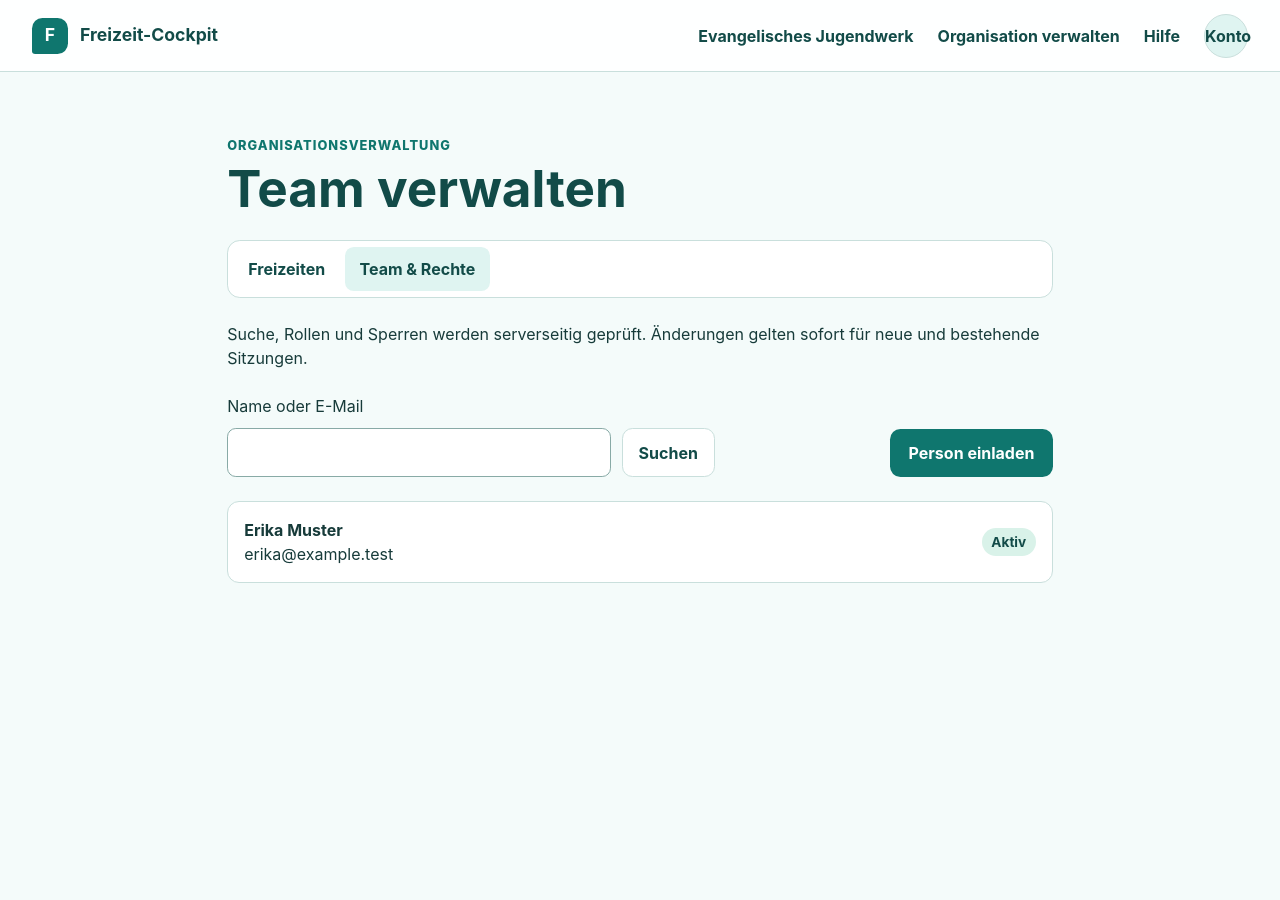
Test: user administration › keeps the opened user visible when a stale version is rejected
Click the button with aria-label "Erika Muster auswählen" at point(293, 530), box [244,518,1036,566]
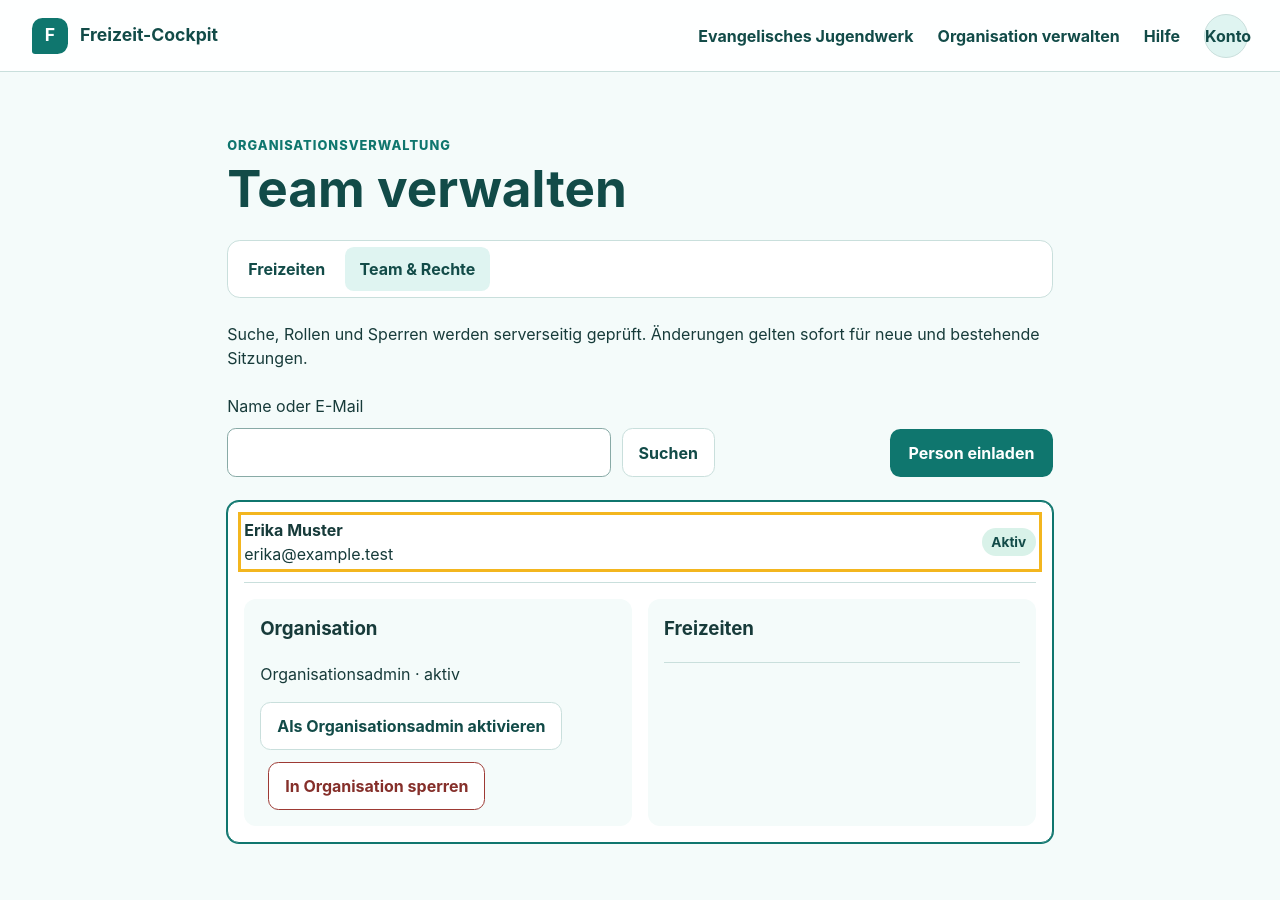
Click the button "In Organisation sperren" at point(377, 786), box [268,762,485,810]
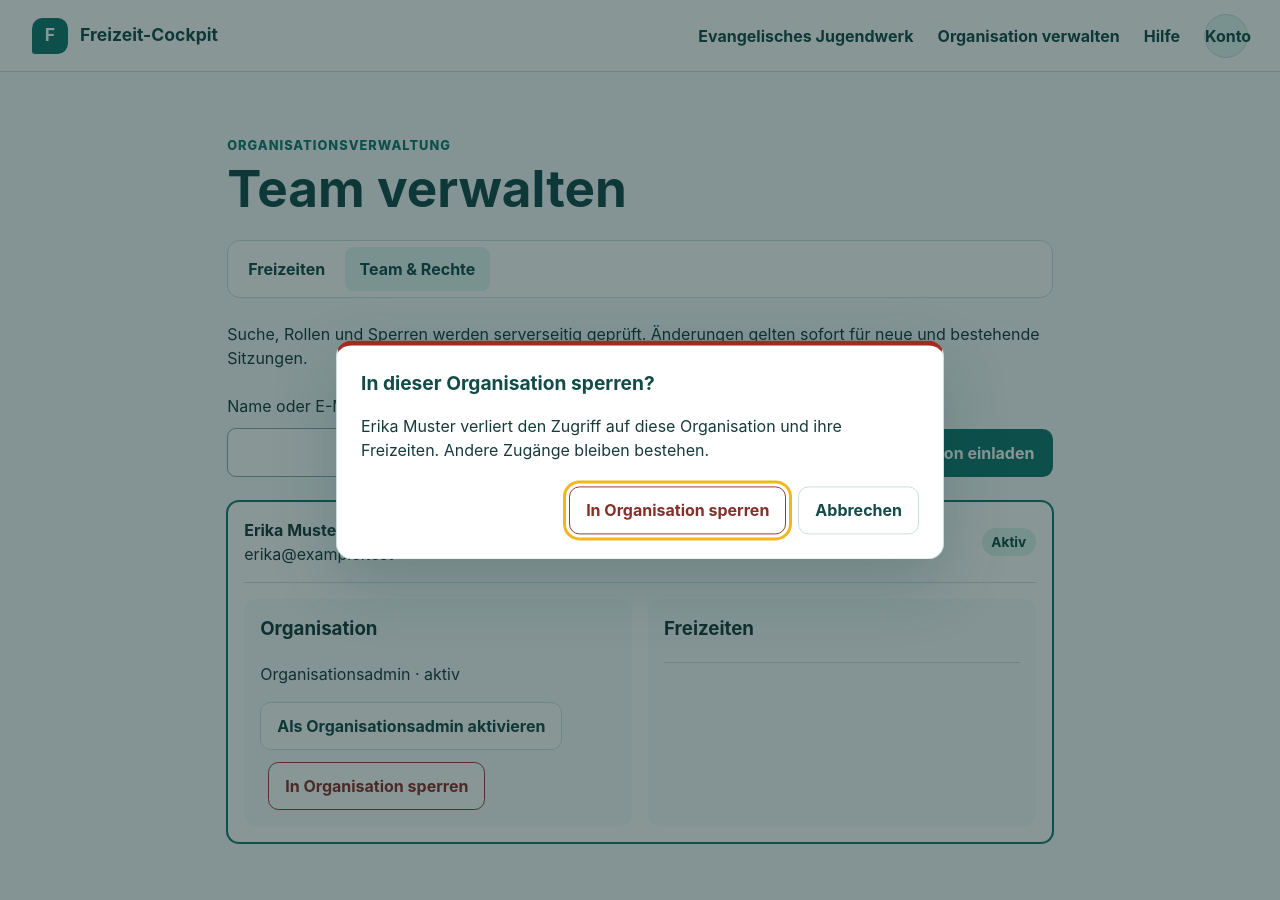
Click the button "In Organisation sperren" at point(678, 510), box [569,486,786,535]
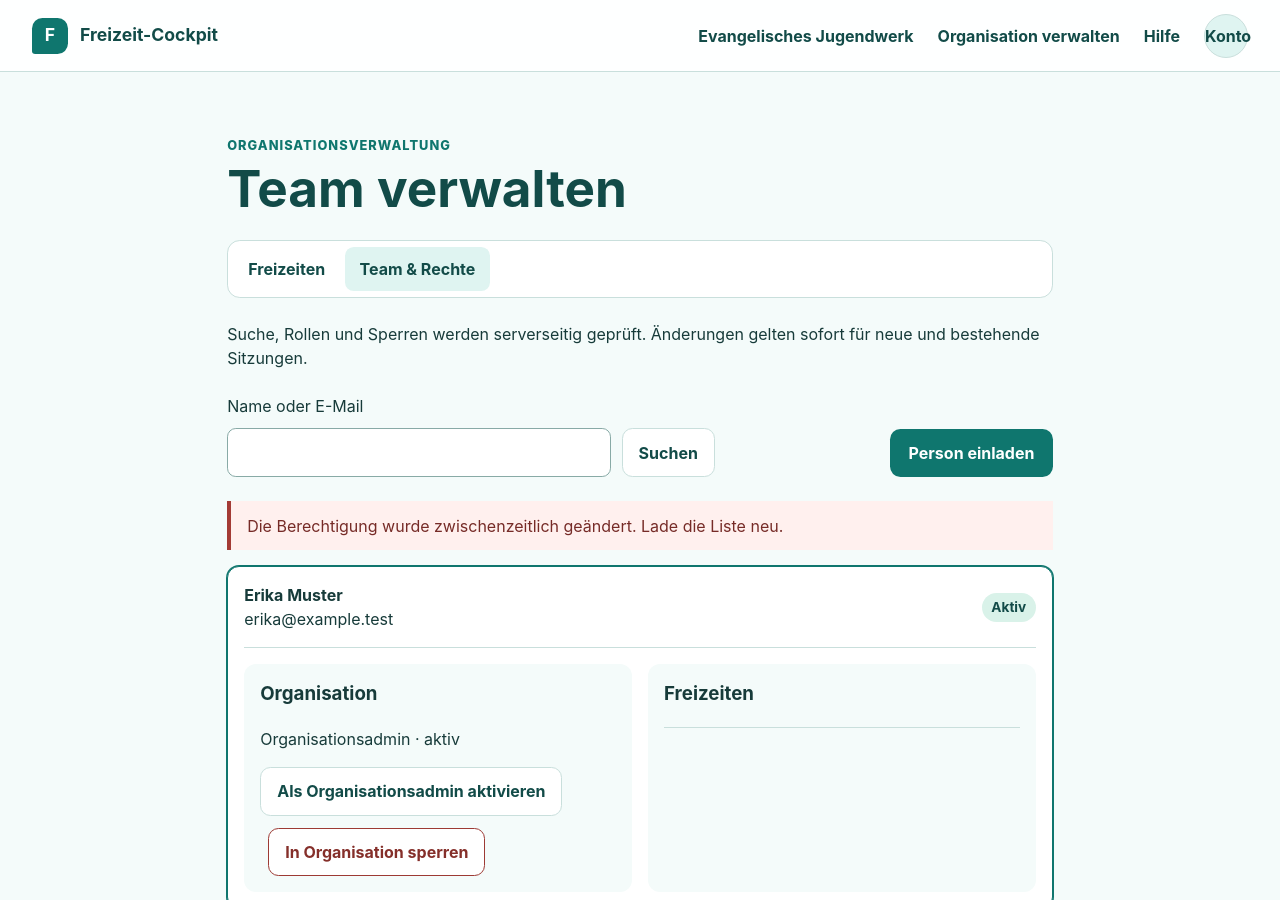
Expected: the heading "Organisation" is shown, [260,682,378,705]
Expected: the text "Organisationsadmin · aktiv" is shown, [260,729,460,749]
Expected: the text "Die Berechtigung wurde zwischenzeitlich geändert. Lade die Liste neu." is shown, [227,501,1053,550]
